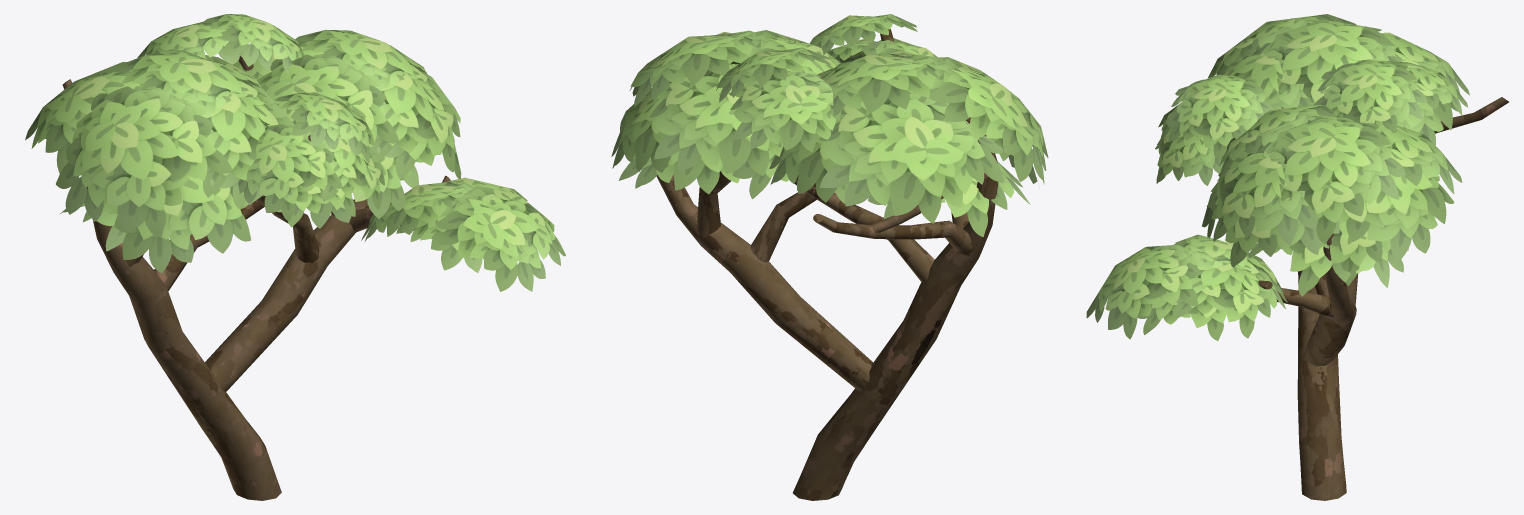
The model's file is tree_3.glb.
3 renders of one model, left to right at view 1: azimuth 30°, elevation 25°; view 2: azimuth 150°, elevation 25°; view 3: azimuth 270°, elevation 25°, orthographic. The views are drawn at different scales.
Visible parts, largest first — view 1: Tree_3; view 2: Tree_3; view 3: Tree_3.
Boxes of the visible parts, x1,y1,x2,y2 form: Tree_3: (25, 14, 565, 500); Tree_3: (611, 14, 1048, 500); Tree_3: (1086, 14, 1508, 500).
Size of the model in its own units: 5.78 by 5.72 by 5.17.
Materials: 2 (2 with a texture image).
